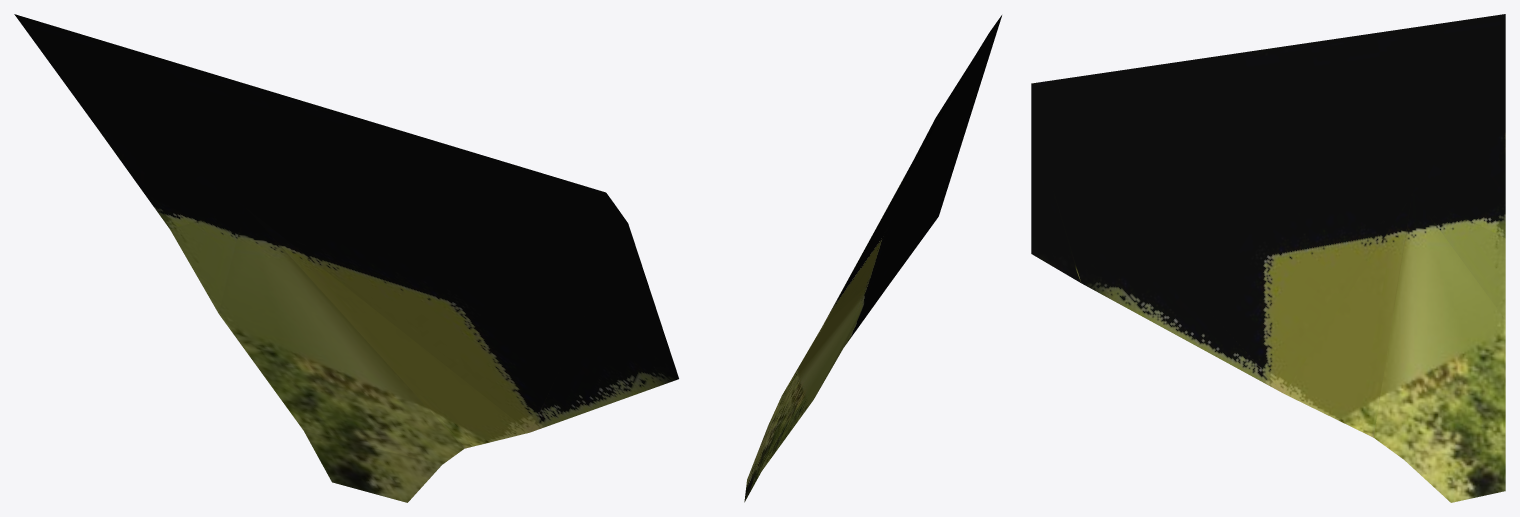
3 renders of one model, left to right at view 1: azimuth 30°, elevation 25°; view 2: azimuth 150°, elevation 25°; view 3: azimuth 270°, elevation 25°, orthographic. The views are drawn at different scales.
Size of the model in its own units: 3.46 by 5.26 by 5.9.
2 materials, 2 textured.
